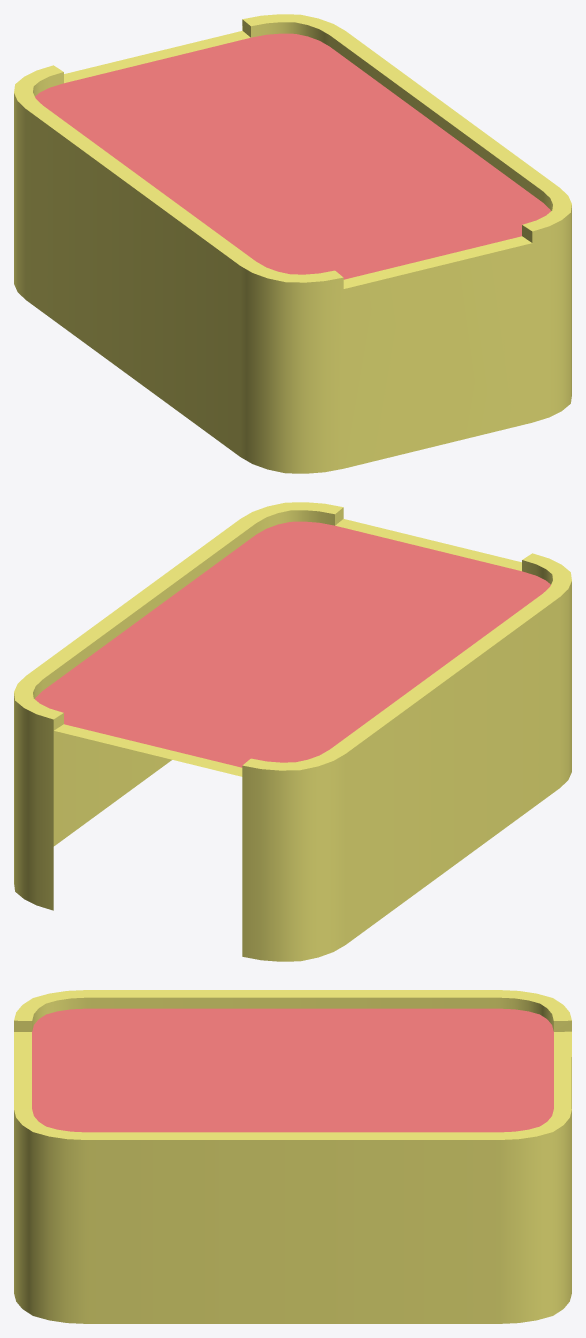
The model's file is arena 1.fbx.
The picture shows the model from 3 angles, top to bottom: view 1: azimuth 30°, elevation 25°; view 2: azimuth 150°, elevation 25°; view 3: azimuth 270°, elevation 25°; orthographic projection. The views are drawn at different scales.
Parts seen in each view (by area): view 1: Box001; view 2: Box001; view 3: Box001.
Boxes of the visible parts, x1,y1,x2,y2 form: Box001: [14, 14, 571, 473]; Box001: [14, 502, 571, 961]; Box001: [14, 990, 571, 1323].
Bounding box in the file's own units: 1.78 × 1.02 × 2.79.
